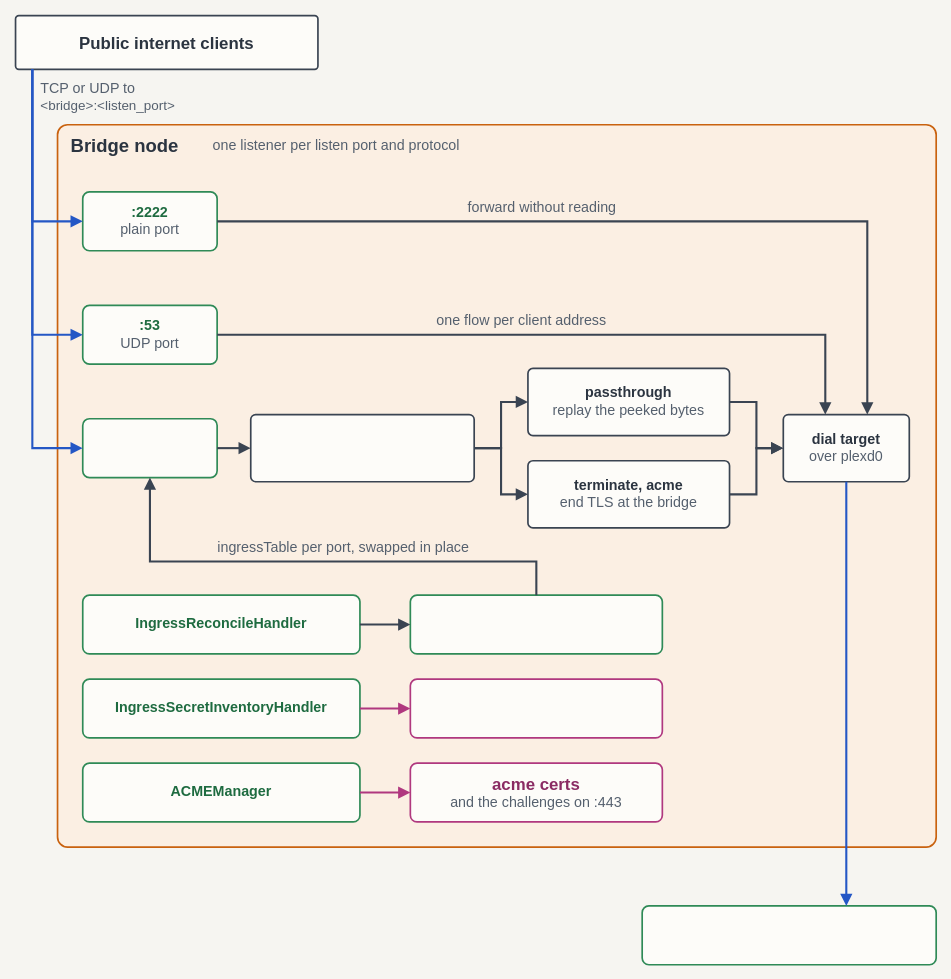
This 951x979 diagram has some shape labels left out. The shapes that lost their labels are listed below. From the top down, each one's centre as x and y in pixels, then its label:
point 149,447: :443 SNI port
point 362,447: peek the ClientHello, match the server name
point 536,624: IngressManager.Apply
point 536,708: terminate certs
point 789,935: Target node <target_address>:<target_port>
